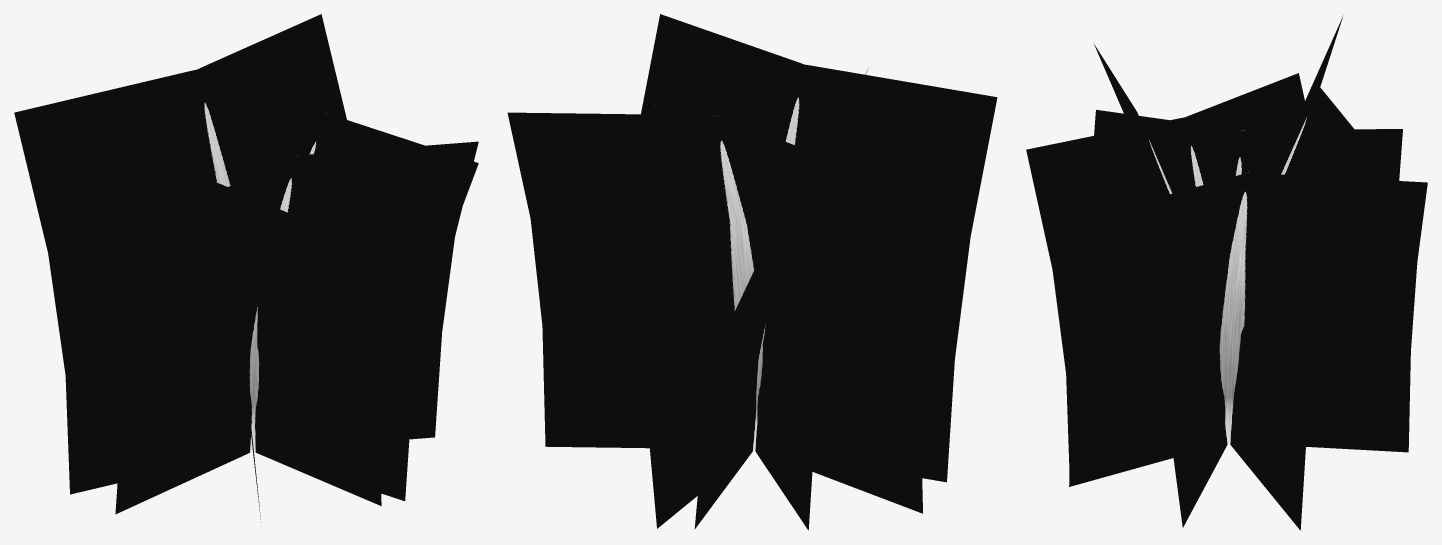
The model's file is OnionPlant02.fbx.
The picture shows the model from 3 angles, left to right: view 1: azimuth 30°, elevation 25°; view 2: azimuth 150°, elevation 25°; view 3: azimuth 270°, elevation 25°; orthographic projection. The views are drawn at different scales.
Visible parts, largest first — view 1: OnionPlant02_LOD0; view 2: OnionPlant02_LOD0; view 3: OnionPlant02_LOD0.
Boxes of the visible parts, bbox=[...] form: OnionPlant02_LOD0: bbox=[14, 14, 478, 522]; OnionPlant02_LOD0: bbox=[507, 14, 997, 530]; OnionPlant02_LOD0: bbox=[1026, 15, 1427, 530].
Size of what is drawn, in the model's own units: 55.55 by 56.15 by 56.64.
